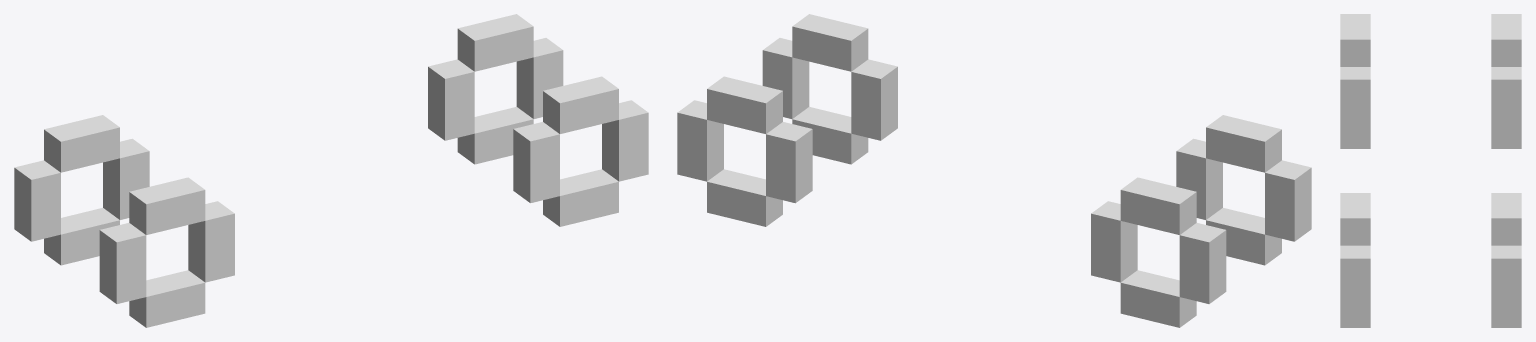
Rendered from Wheels.obj.
3 views of the same model, side by side, from view 1: azimuth 30°, elevation 25°; view 2: azimuth 150°, elevation 25°; view 3: azimuth 270°, elevation 25° (orthographic). The views are drawn at different scales.
Size of the model in its own units: 1.8 by 0.4 by 0.6.
Materials: 1 (1 with a texture image).
